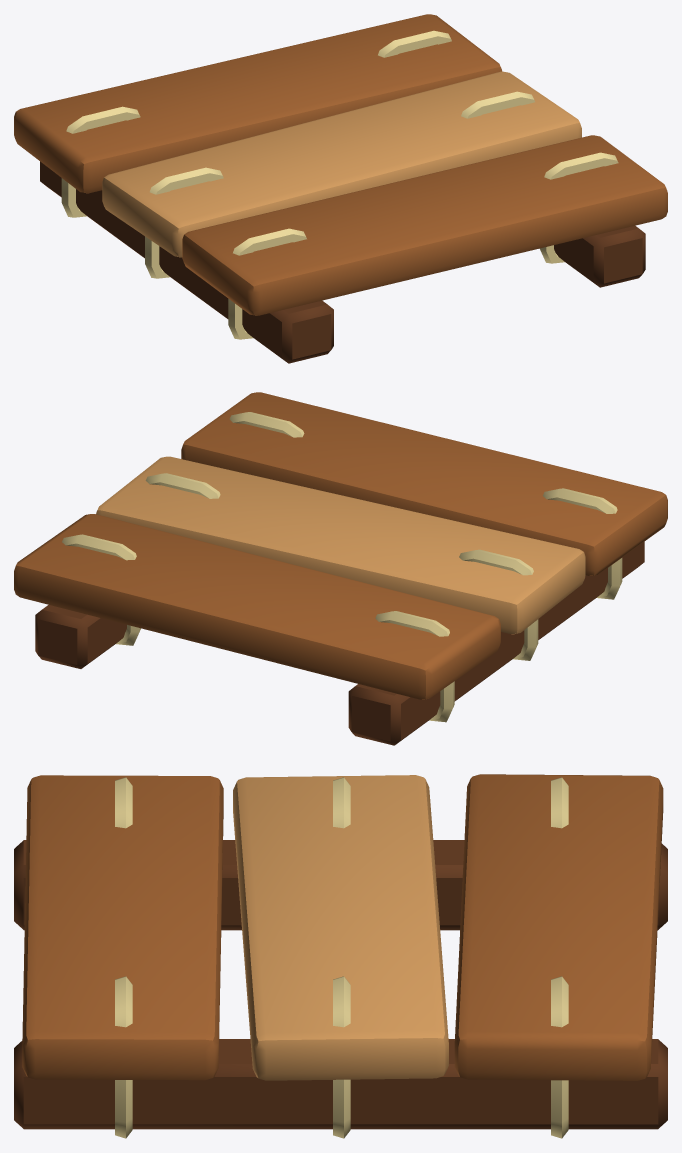
Rendered from bridge_plank.glb.
3 views of the same model, one above another, from view 1: azimuth 30°, elevation 25°; view 2: azimuth 150°, elevation 25°; view 3: azimuth 270°, elevation 25° (orthographic). The views are drawn at different scales.
Parts seen in each view (by area): view 1: bridge_plank; view 2: bridge_plank; view 3: bridge_plank.
Boxes of the visible parts, bbox=[...] form: bridge_plank: bbox=[14, 14, 667, 363]; bridge_plank: bbox=[14, 392, 667, 745]; bridge_plank: bbox=[14, 774, 667, 1138].
Bounding box in the file's own units: 0.9749 × 0.2142 × 1.
